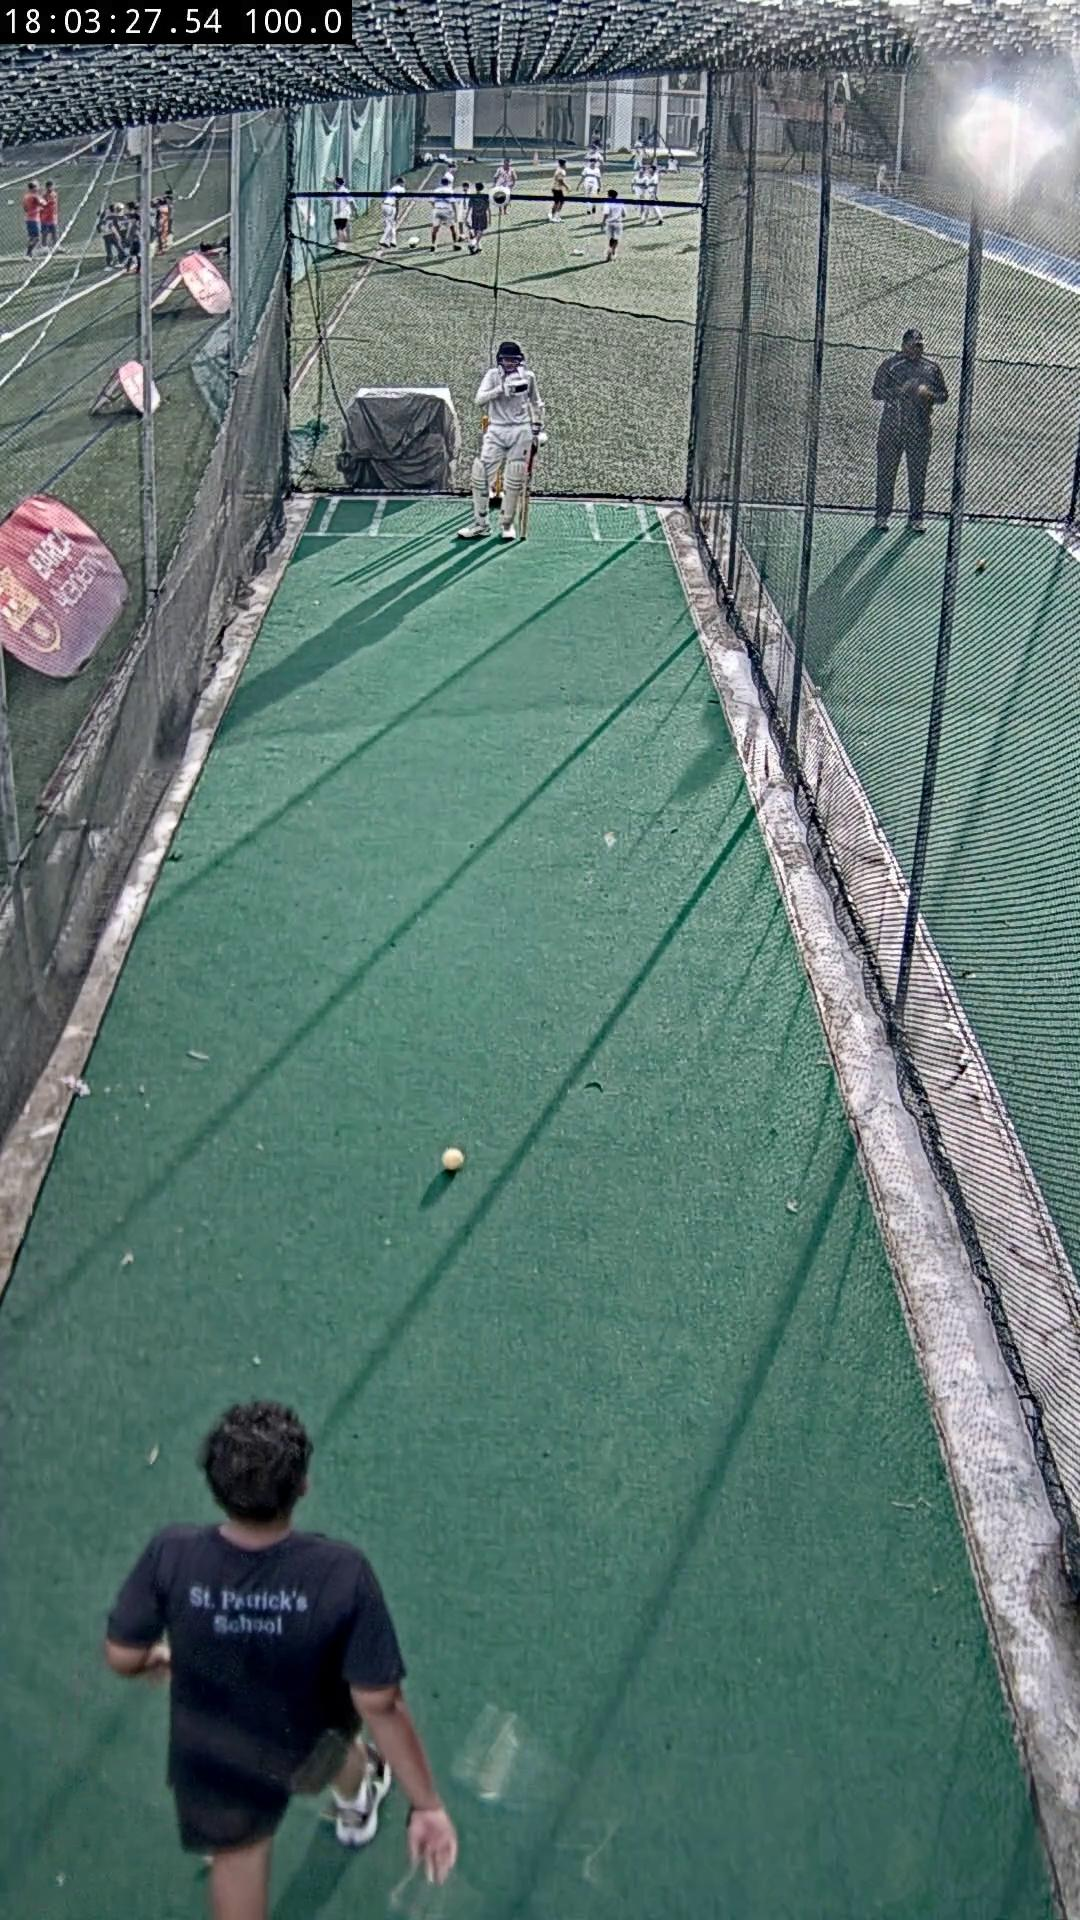ball: (443, 1147, 465, 1174)
bat: (521, 450, 537, 541)
gloves: (506, 372, 529, 394), (533, 427, 547, 446)
helmet: (495, 342, 525, 364)
pads: (498, 462, 525, 529), (472, 458, 488, 525)
